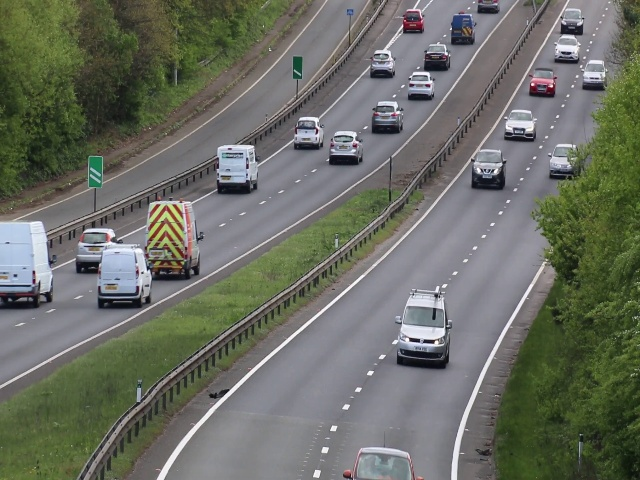car: (1, 219, 56, 306), (146, 199, 202, 279), (395, 297, 450, 369), (97, 245, 153, 309), (214, 142, 261, 194), (471, 148, 507, 190), (328, 130, 365, 166), (368, 99, 405, 134), (75, 226, 102, 273), (502, 107, 538, 142), (294, 115, 325, 150), (526, 64, 557, 98), (406, 68, 436, 99), (450, 10, 475, 46), (368, 47, 398, 76), (582, 57, 608, 90), (550, 141, 573, 178), (423, 42, 451, 72), (552, 33, 580, 63), (559, 7, 585, 33), (402, 8, 424, 35)
